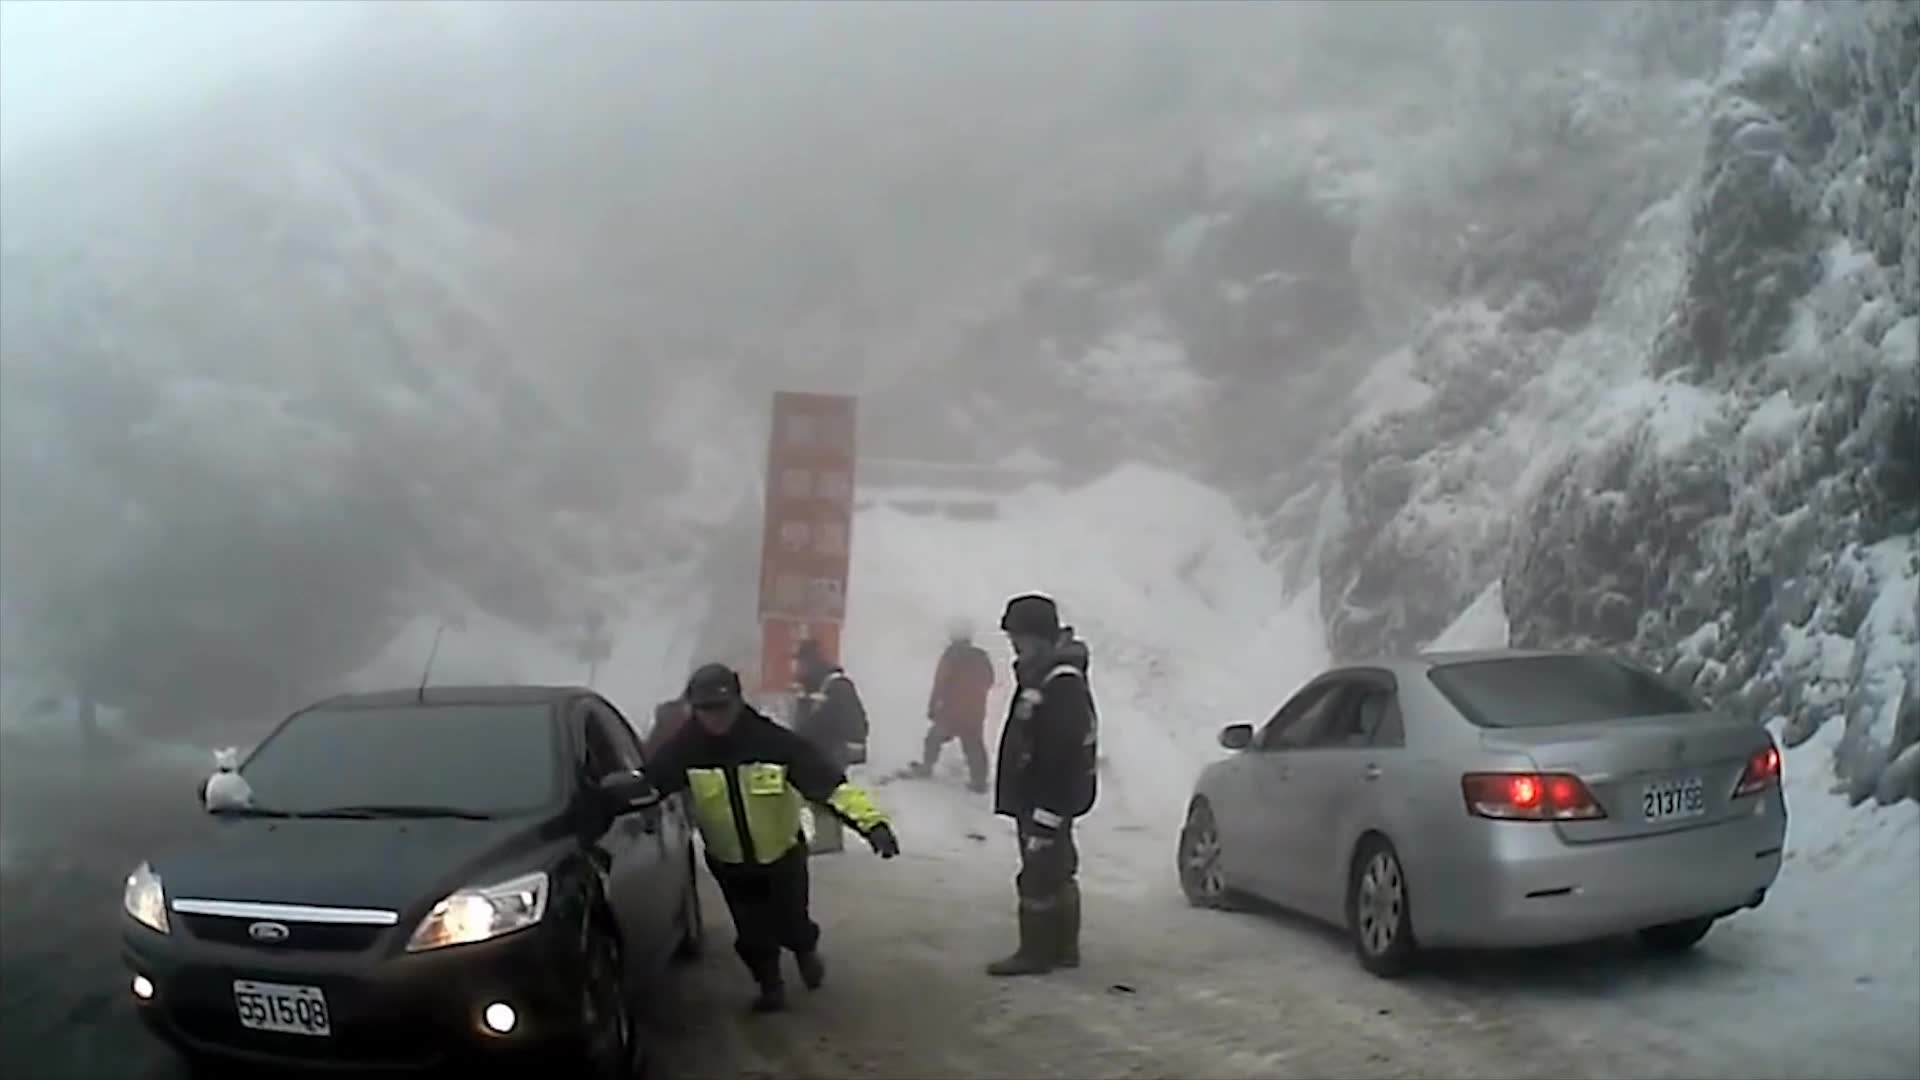pedestrian: (628, 657, 909, 1013), (983, 589, 1100, 981), (787, 639, 872, 856), (921, 609, 996, 795)
vehicle: (118, 680, 709, 1080), (1170, 642, 1790, 976)
